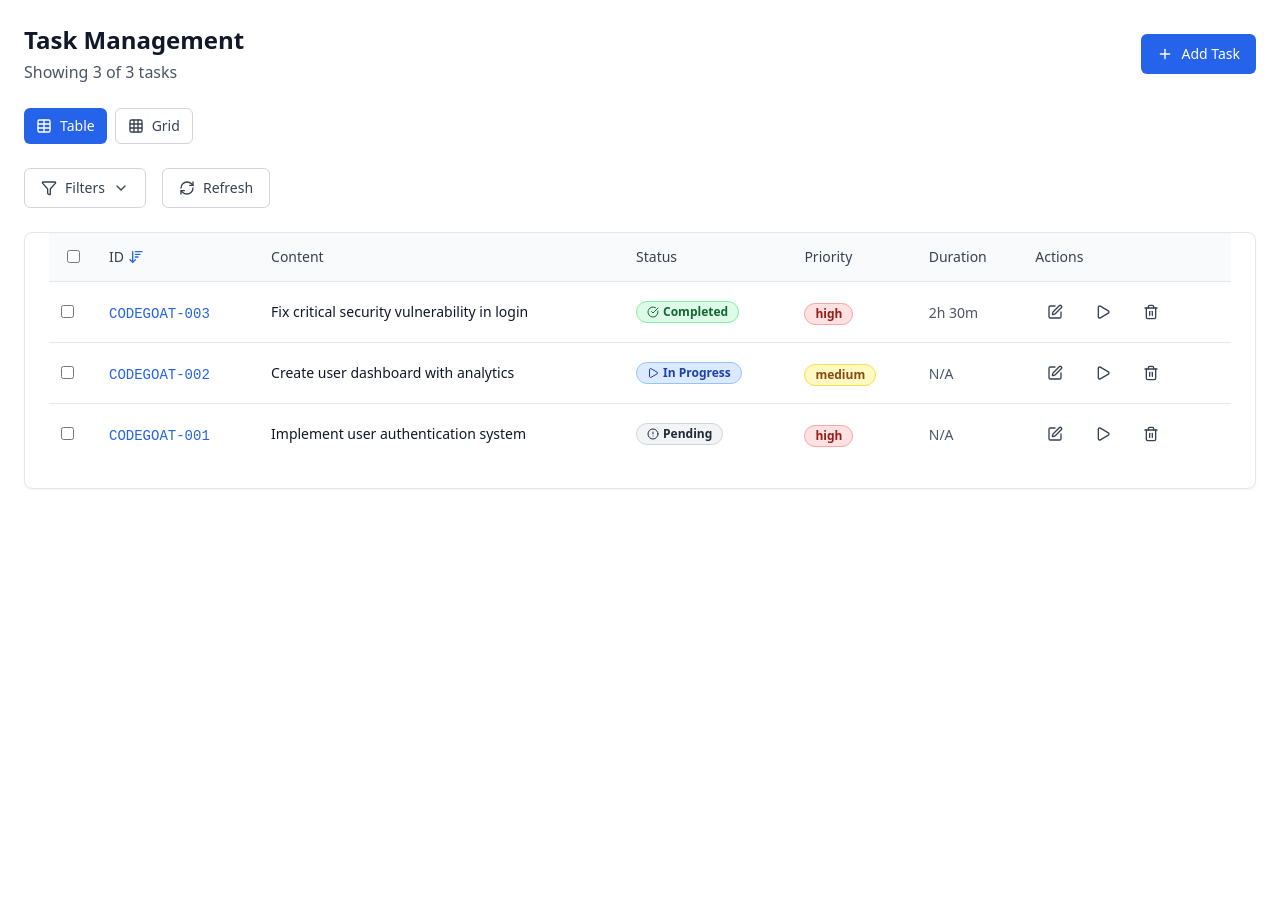
Test: TaskManagement › Task Creation › opens create form when Add Task is clicked
Expected: the heading "Task Management" is shown, top-left (24, 24), bottom-right (244, 56)
# Now find and click the Add Task button
Click the button "Add Task". click: point(1199, 54)
box: top-left (1142, 34), bottom-right (1256, 74)
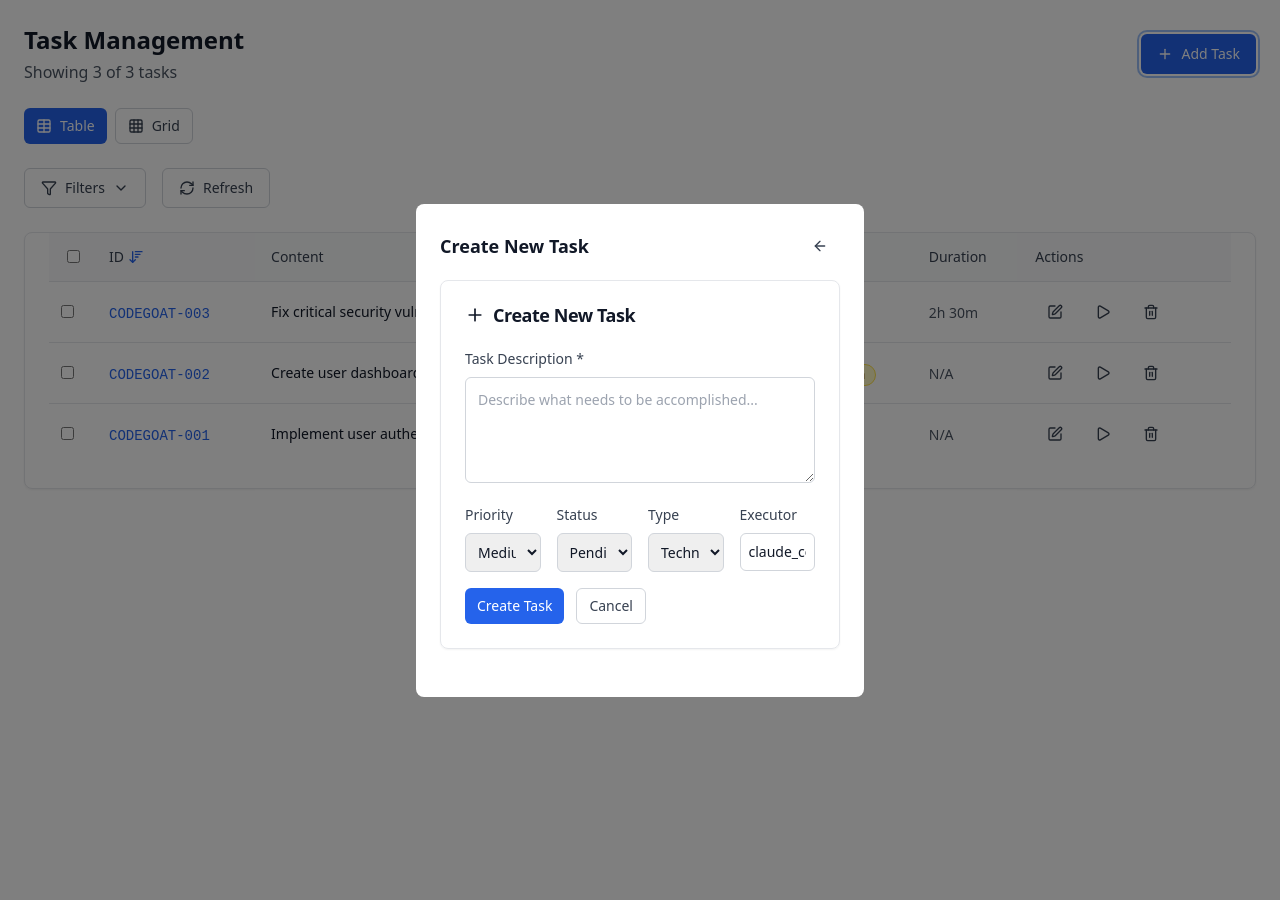
Expected: the 1st heading "Create New Task" is shown, top-left (440, 232), bottom-right (589, 260)
Expected: the text box labelled "Task Description *" is shown, top-left (465, 376), bottom-right (815, 482)
Expected: the button "Create Task" is shown, top-left (465, 588), bottom-right (564, 624)
